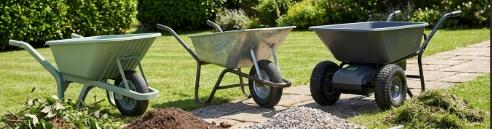ARROSOIR: (8, 9, 467, 116)
